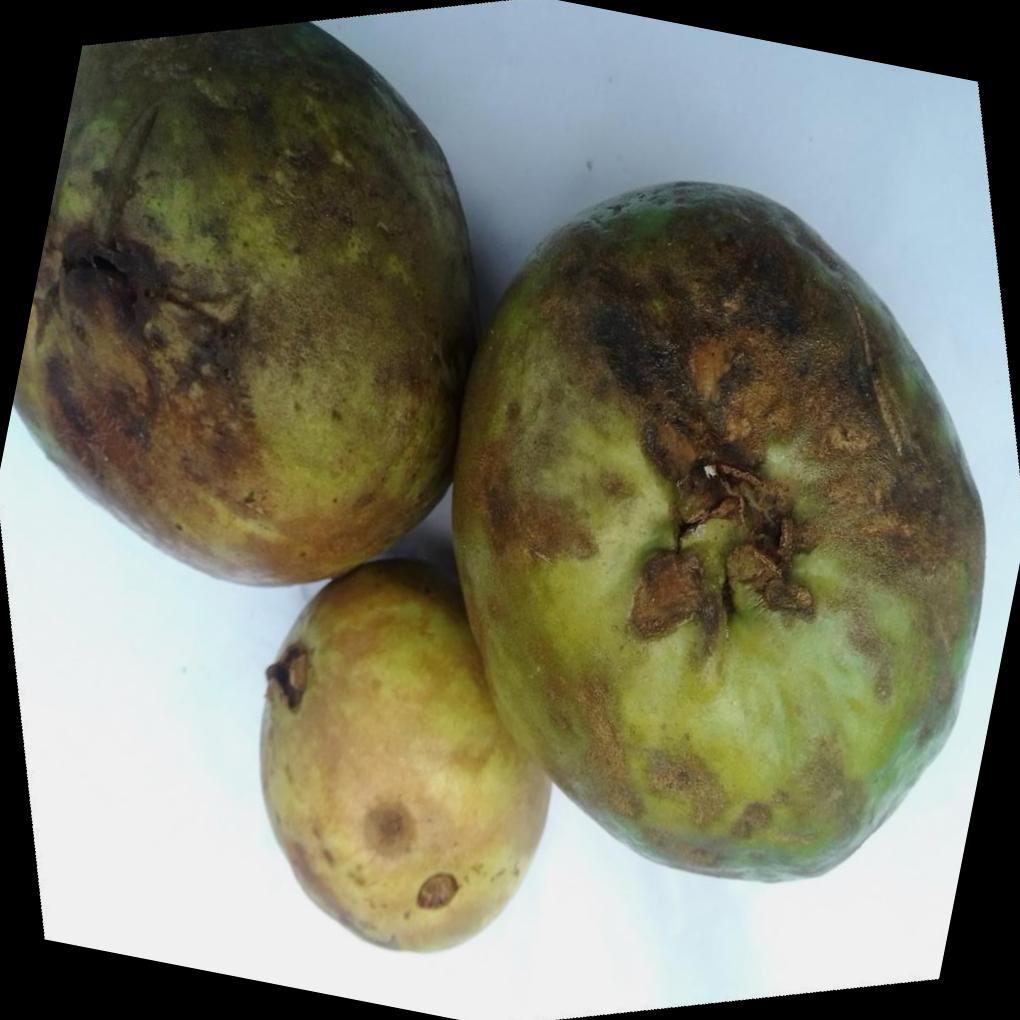FreshOrange: (11, 20, 984, 954)
